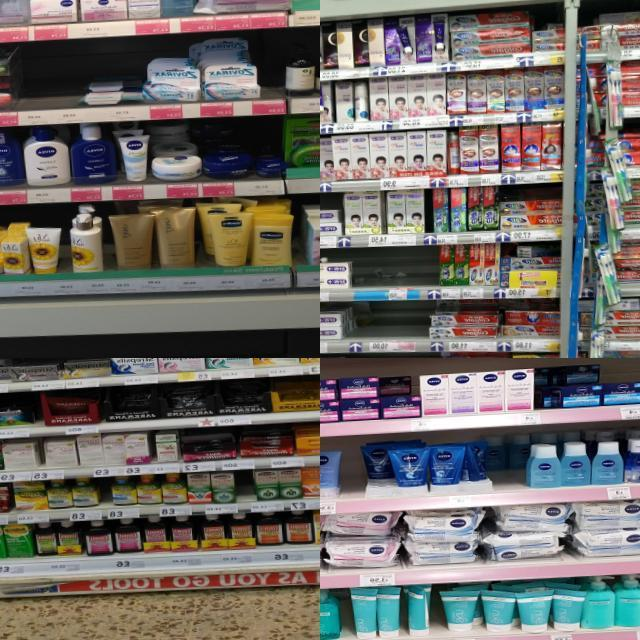empty: (351, 246, 440, 300), (363, 302, 428, 352), (16, 42, 51, 126), (50, 42, 83, 124), (258, 37, 285, 115), (342, 443, 362, 512), (234, 471, 254, 514)
